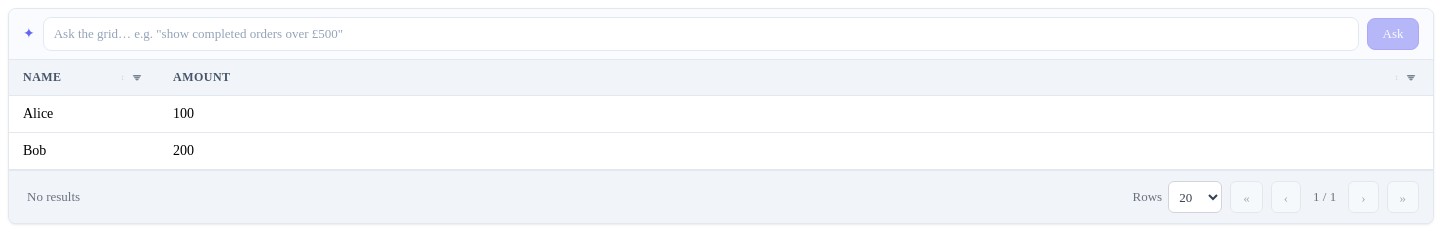
Test: AiBar › submit button enables when input has text
Type "show high amounts" into the field named "AI grid command". click: [701, 34]
box: [43,17,1359,51]
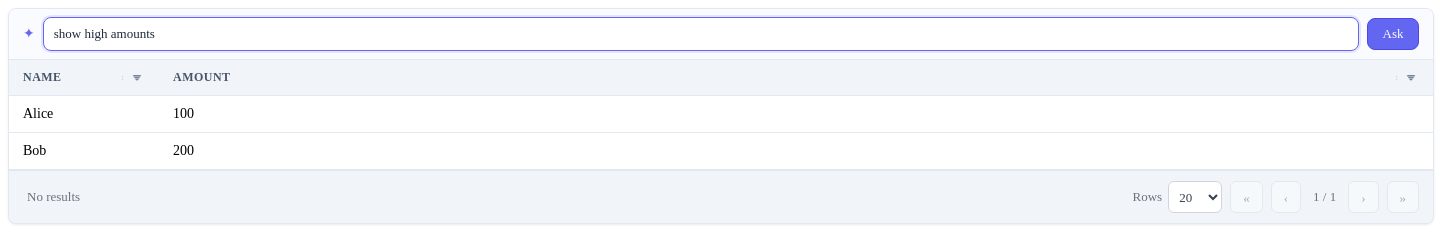
expect the button with aria-label "Send AI command" is enabled: met, box [1367,18,1419,50]
